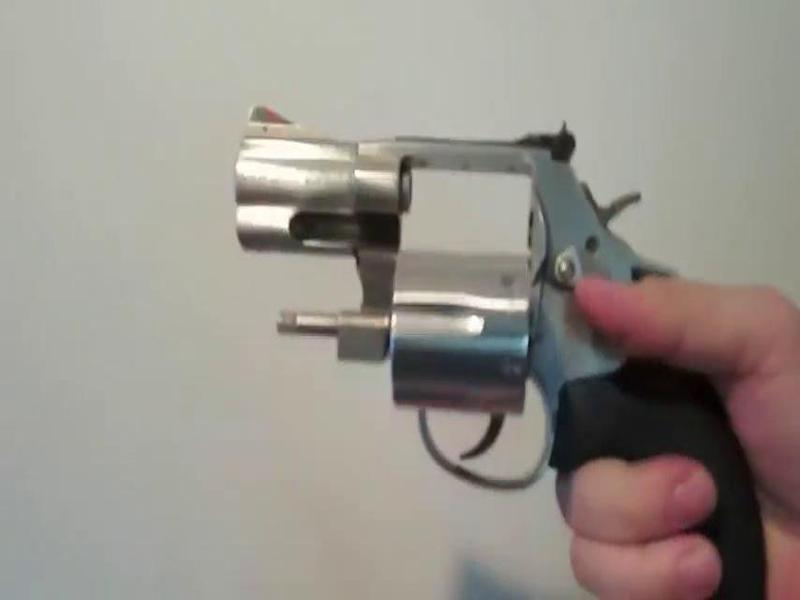Revolver: (224, 81, 779, 600)
